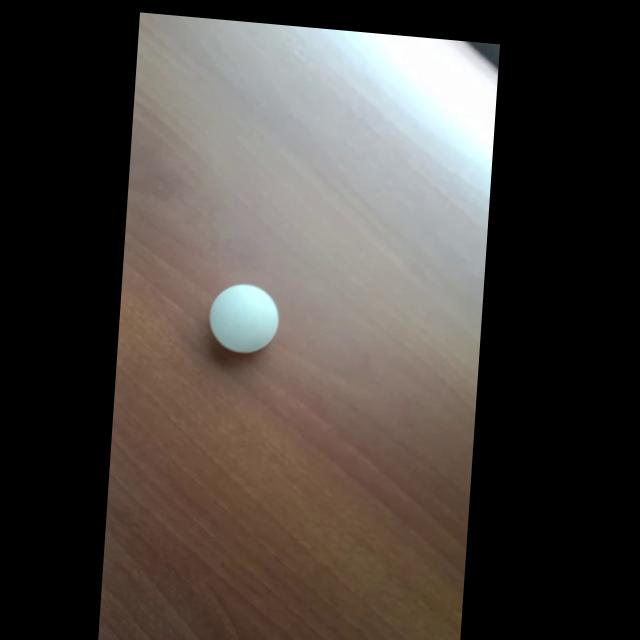white ball: (207, 280, 282, 357)
